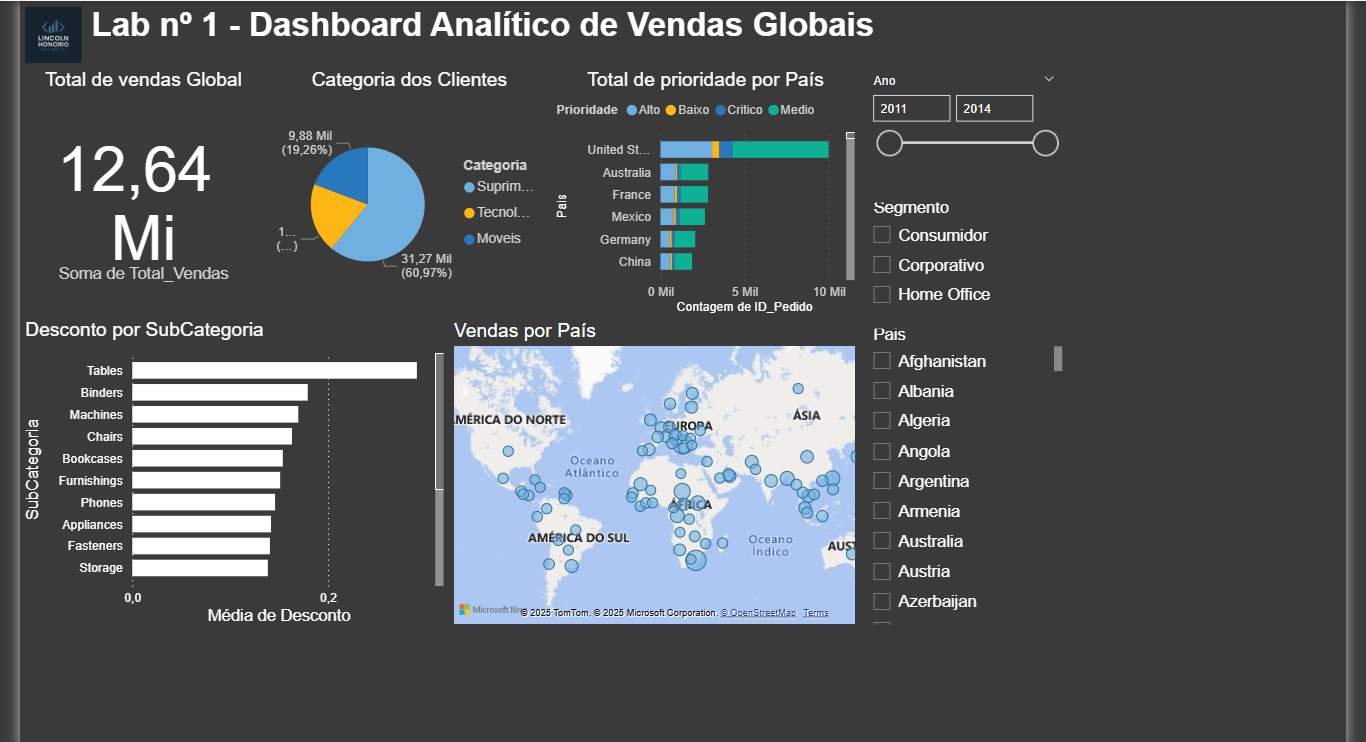

What the dashboard file says about the page in this screenshot:
{"tool":"powerbi","page":{"name":"Página 1","canvas":[1280,720],"ordinal":0},"visuals":[{"type":"card","title":"Total de vendas Global","fields":{"Values":["dataset.Total_Vendas"]},"box":[0,65.1,238.9,241.3],"z":0},{"type":"pieChart","title":"Categoria dos Clientes","fields":{"Category":["dataset.Categoria"],"Y":["dataset.ID_Pedido"]},"box":[239,65,274,242],"z":1000},{"type":"barChart","title":"Total de prioridade por País","fields":{"Category":["dataset.Pais"],"Y":["dataset.ID_Pedido"],"Series":["dataset.Prioridade"]},"box":[513,65,298,242],"z":2000},{"type":"clusteredBarChart","title":"Desconto por SubCategoria","fields":{"Category":["dataset.SubCategoria"],"Y":["dataset.Desconto"]},"box":[0,307,414,300],"z":3000},{"type":"map","title":"Vendas por País","fields":{"Category":["dataset.Pais"],"Size":["dataset.Total_Vendas"]},"box":[413.8,307.6,396.9,299.2],"z":4000},{"type":"slicer","fields":{"Values":["dataset.Pais"]},"box":[810.7,307.6,200.3,299.2],"z":5000},{"type":"slicer","fields":{"Values":["dataset.Segmento"]},"box":[811,186,200,130],"z":6000},{"type":"slicer","fields":{"Values":["dataset.Data_Pedido.Variation.Hierarquia de datas.Ano"]},"box":[811,65,200,129],"z":7000},{"type":"textbox","box":[63.6,0,778.9,48.9],"z":8000},{"type":"image","box":[0,0,63.9,65.1],"z":9000}]}

Visuals, with their boxes on the page's 1280x720 design canvas (x1, y1, x2, y2). These are canvas units, not pixel positions in the 1366x742 screenshot, which may show the page scaled, cropped or inside an application window:
"Total de vendas Global" card: <bbox>0, 65, 239, 306</bbox>
"Categoria dos Clientes" pieChart: <bbox>239, 65, 513, 307</bbox>
"Total de prioridade por País" barChart: <bbox>513, 65, 811, 307</bbox>
"Desconto por SubCategoria" clusteredBarChart: <bbox>0, 307, 414, 607</bbox>
"Vendas por País" map: <bbox>414, 308, 811, 607</bbox>
slicer - dataset.Pais: <bbox>811, 308, 1011, 607</bbox>
slicer - dataset.Segmento: <bbox>811, 186, 1011, 316</bbox>
slicer - dataset.Data_Pedido.Variation.Hierarquia de datas.Ano: <bbox>811, 65, 1011, 194</bbox>
textbox: <bbox>64, 0, 842, 49</bbox>
image: <bbox>0, 0, 64, 65</bbox>
